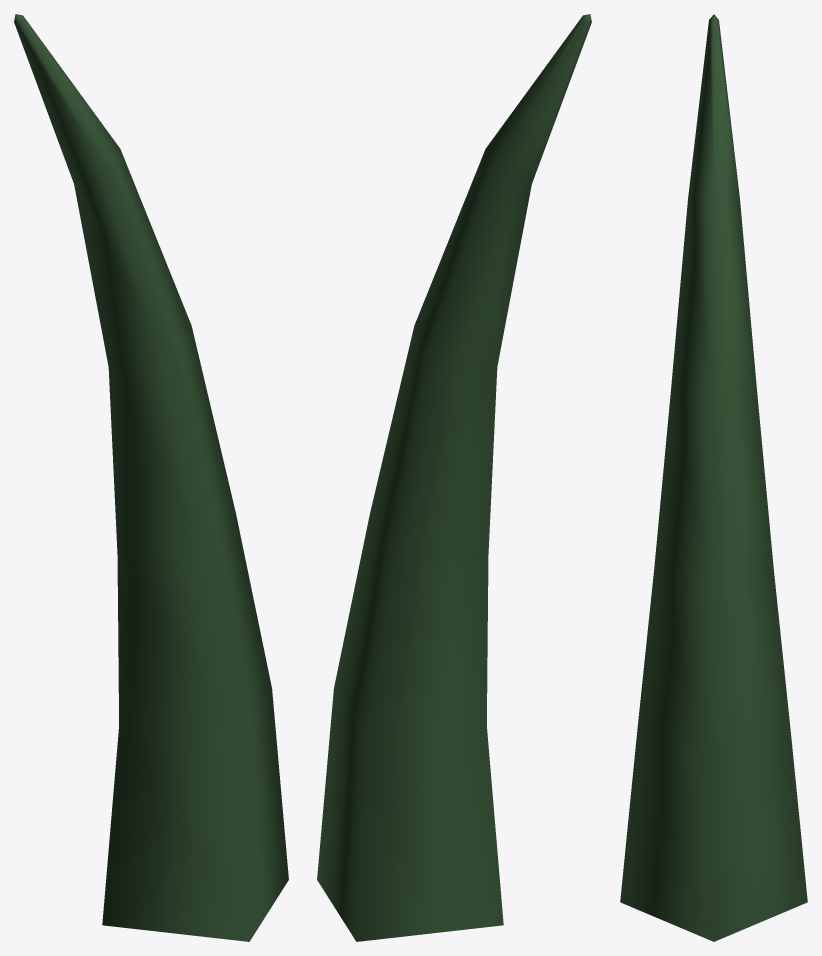
Rendered from grass-blade-1.fbx.
The picture shows the model from 3 angles, left to right: view 1: azimuth 30°, elevation 25°; view 2: azimuth 150°, elevation 25°; view 3: azimuth 270°, elevation 25°; orthographic projection. The views are drawn at different scales.
Visible parts, largest first — view 1: Cylinder; view 2: Cylinder; view 3: Cylinder.
Boxes of the visible parts, x1,y1,x2,y2 form: Cylinder: (14, 14, 288, 941); Cylinder: (317, 14, 591, 941); Cylinder: (620, 14, 807, 941).
Size of the model in its own units: 11.78 by 38.18 by 8.
